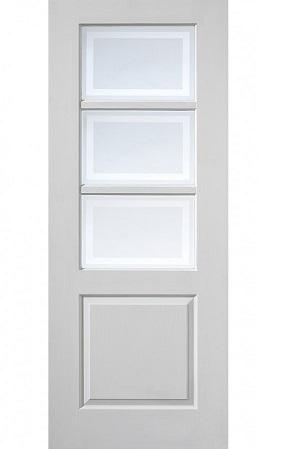door: (53, 5, 231, 449)
